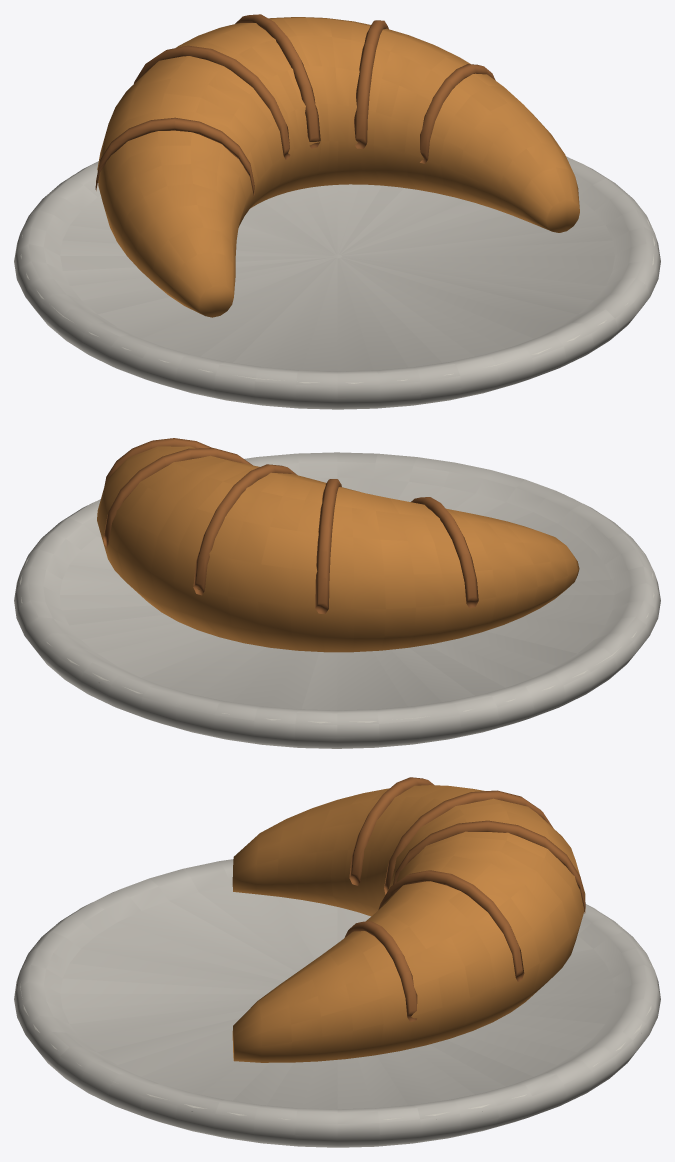
The model's file is croissant.glb.
3 views of the same model, one above another, from view 1: azimuth 30°, elevation 25°; view 2: azimuth 150°, elevation 25°; view 3: azimuth 270°, elevation 25° (orthographic).
Parts seen in each view (by area): view 1: Shared_milky_white_round_glass_plate, Croissant_one_buttery_crescent, Croissant_rolled_butter_layer_2, Croissant_rolled_butter_layer_1, Croissant_rolled_butter_layer_3, Croissant_rolled_butter_layer_4, Croissant_rolled_butter_layer_5; view 2: Shared_milky_white_round_glass_plate, Croissant_one_buttery_crescent, Croissant_rolled_butter_layer_3, Croissant_rolled_butter_layer_2, Croissant_rolled_butter_layer_4, Croissant_rolled_butter_layer_1, Croissant_rolled_butter_layer_5, Shared_delicate_milk_glass_edge; view 3: Shared_milky_white_round_glass_plate, Croissant_one_buttery_crescent, Croissant_rolled_butter_layer_4, Croissant_rolled_butter_layer_3, Croissant_rolled_butter_layer_2, Croissant_rolled_butter_layer_1, Croissant_rolled_butter_layer_5.
Boxes of the visible parts, x1,y1,x2,y2 form: Shared_milky_white_round_glass_plate: (14, 156, 660, 409); Croissant_one_buttery_crescent: (97, 17, 579, 317); Croissant_rolled_butter_layer_2: (134, 45, 290, 159); Croissant_rolled_butter_layer_1: (95, 117, 254, 196); Croissant_rolled_butter_layer_3: (235, 14, 320, 148); Croissant_rolled_butter_layer_4: (354, 20, 388, 148); Croissant_rolled_butter_layer_5: (420, 64, 495, 163); Shared_milky_white_round_glass_plate: (14, 452, 660, 748); Croissant_one_buttery_crescent: (97, 446, 579, 652); Croissant_rolled_butter_layer_3: (193, 464, 297, 595); Croissant_rolled_butter_layer_2: (315, 479, 341, 613); Croissant_rolled_butter_layer_4: (103, 448, 252, 547); Croissant_rolled_butter_layer_1: (411, 497, 478, 608); Croissant_rolled_butter_layer_5: (104, 438, 212, 484); Shared_delicate_milk_glass_edge: (19, 498, 654, 723); Shared_milky_white_round_glass_plate: (14, 859, 660, 1147); Croissant_one_buttery_crescent: (232, 785, 585, 1062); Croissant_rolled_butter_layer_4: (378, 870, 524, 981); Croissant_rolled_butter_layer_3: (393, 820, 585, 913); Croissant_rolled_butter_layer_2: (384, 790, 552, 894); Croissant_rolled_butter_layer_1: (349, 777, 434, 885); Croissant_rolled_butter_layer_5: (344, 921, 417, 1021).
Bounding box in the file's own units: 0.94 × 0.3432 × 0.94.
